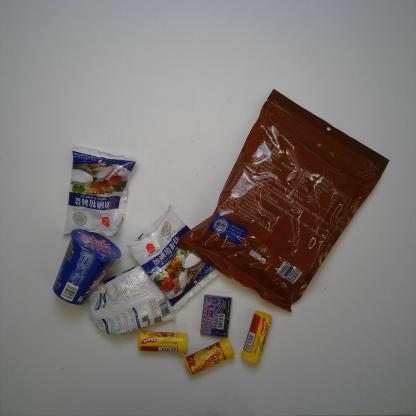Candy: (239, 308, 274, 367), (182, 338, 237, 375), (138, 330, 189, 355)
Dessert: (52, 227, 123, 306)
Dried Food: (173, 86, 391, 314)
Gum: (199, 293, 232, 339)
Seasoner: (126, 203, 219, 313), (63, 140, 138, 236), (87, 263, 176, 338)
